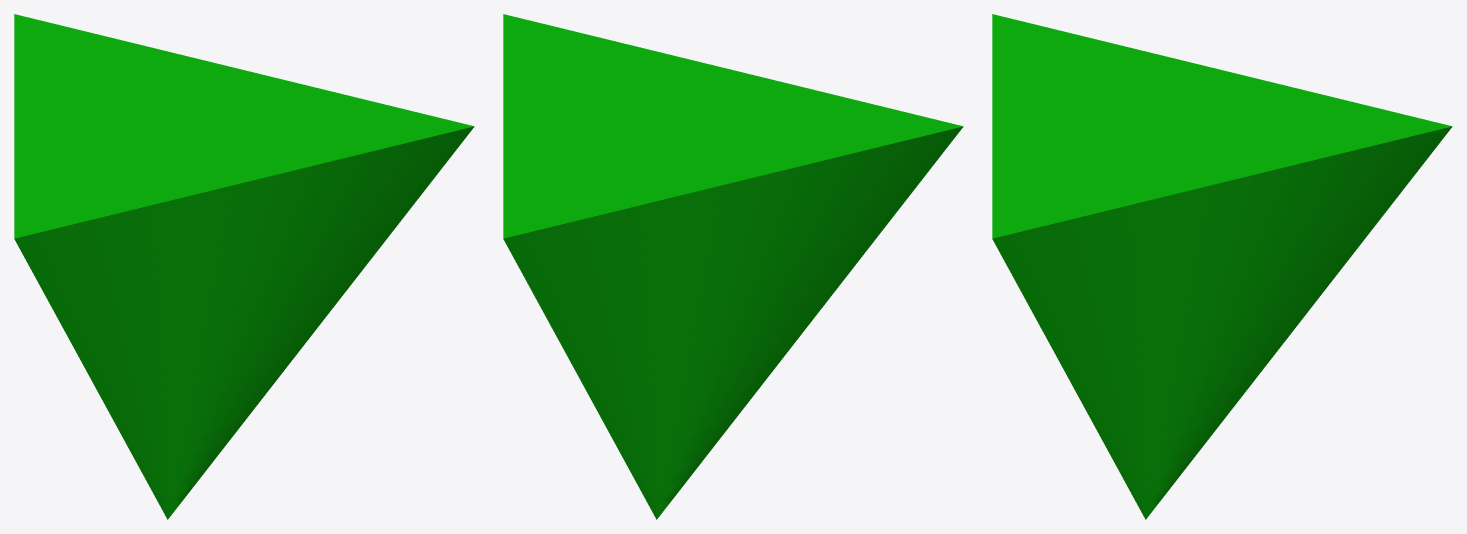
File: pyramid1-down.glb
3 views of the same model, side by side, from view 1: azimuth 30°, elevation 25°; view 2: azimuth 150°, elevation 25°; view 3: azimuth 270°, elevation 25° (orthographic).
Bounding box in the file's own units: 2.45 × 2 × 2.12.
